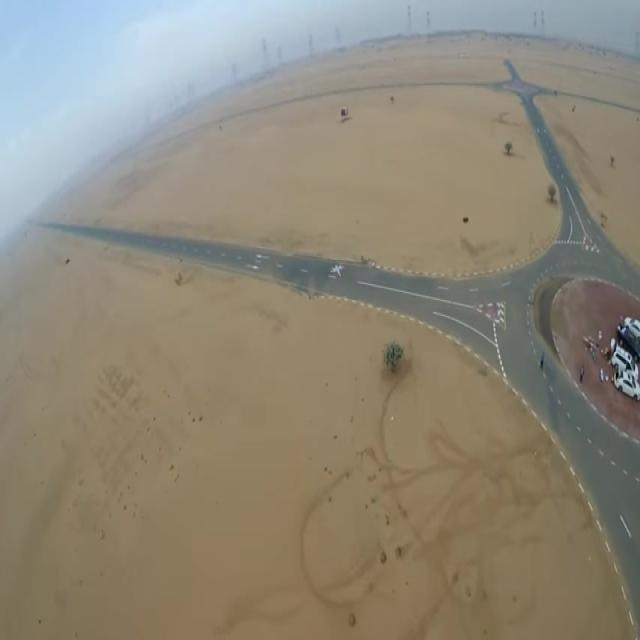iha: (330, 265, 345, 277)
